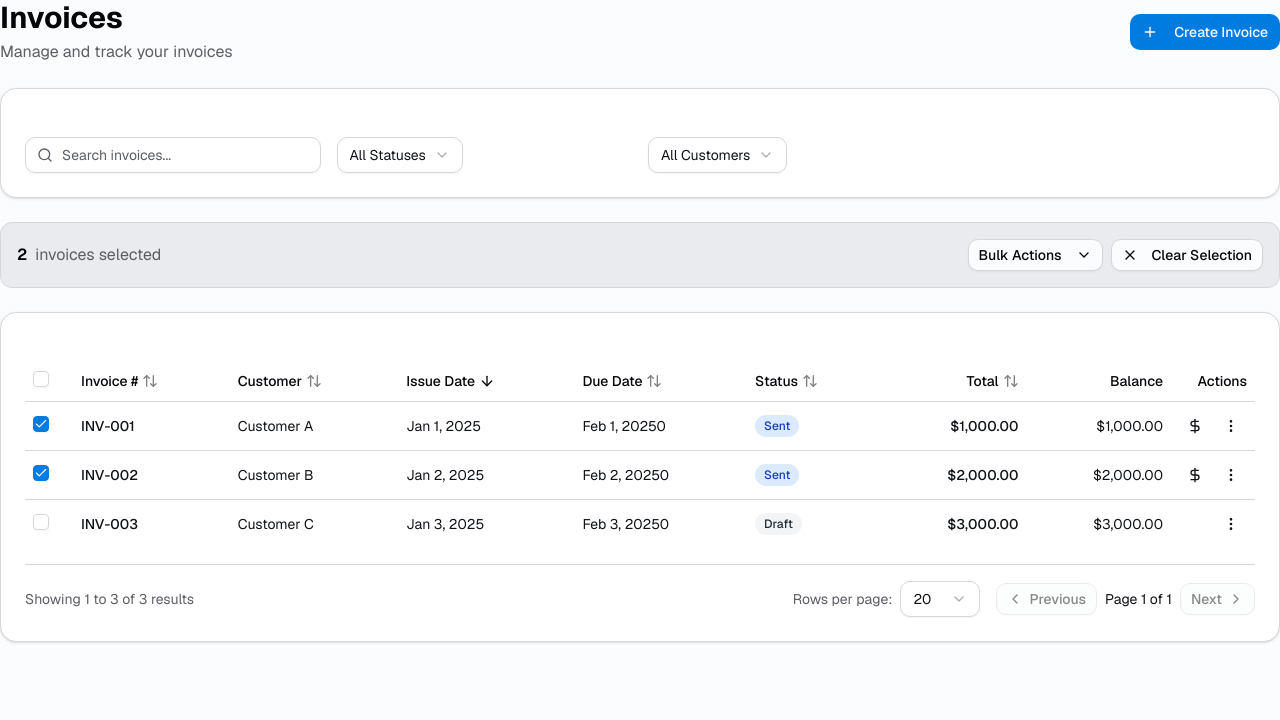
Scenario: Bulk PDF Export › Export Process › should show progress modal during export
Click the button "Bulk Actions" at (1035, 255), box [968,239,1102,271]
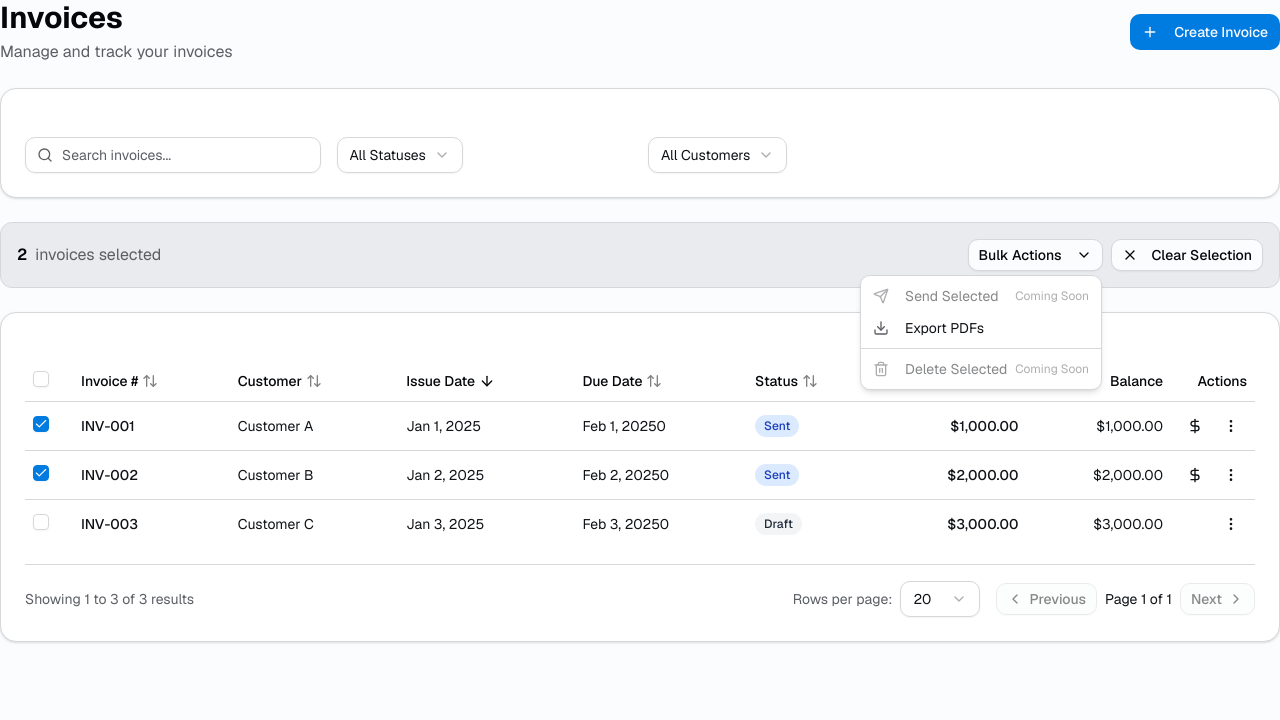
Click the menu item "Export PDFs" at (929, 328), box [873,319,984,337]
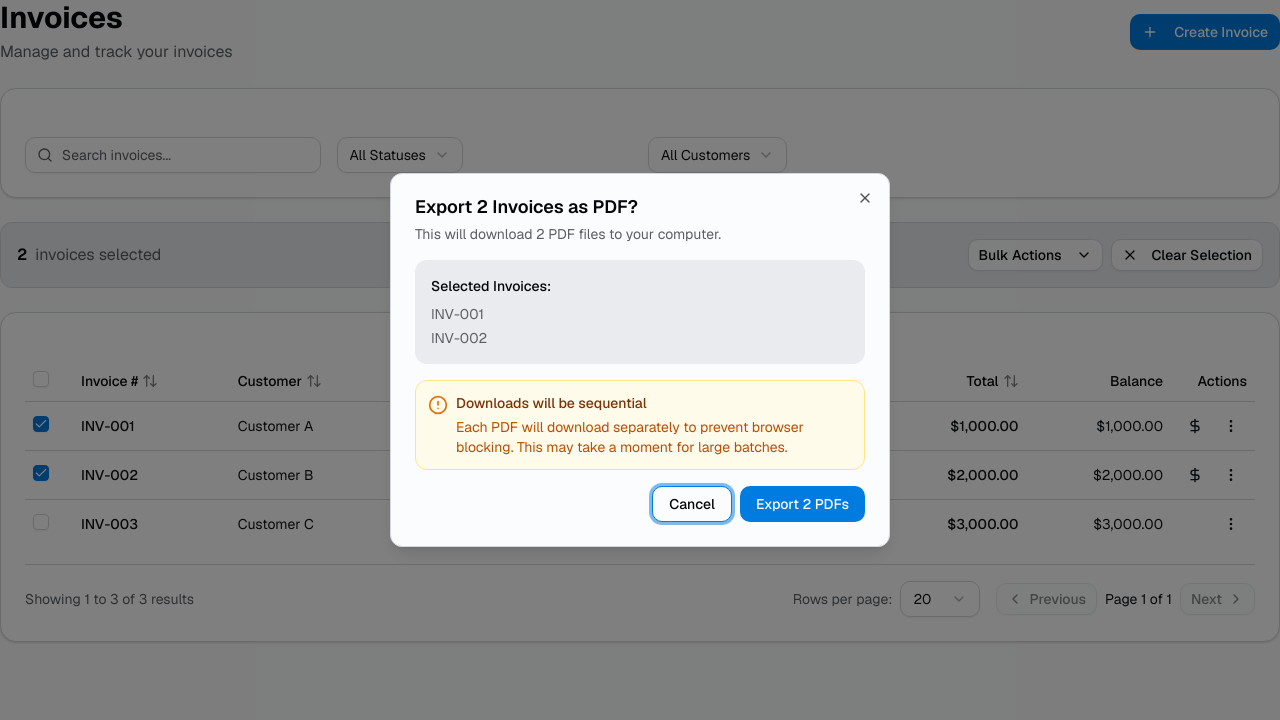
Click the button "Export 2 PDFs" at (802, 504), box [740,486,865,522]
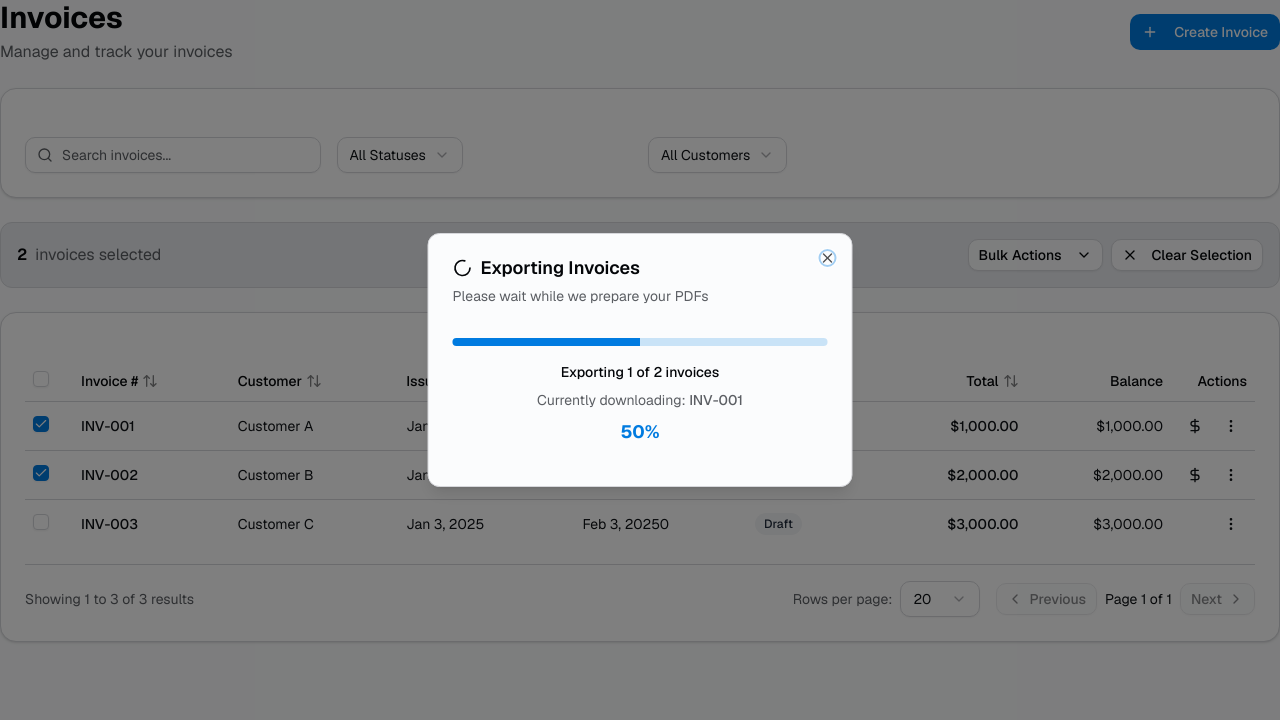
Expected: the heading "Exporting Invoices" is shown, [452,256,640,279]
